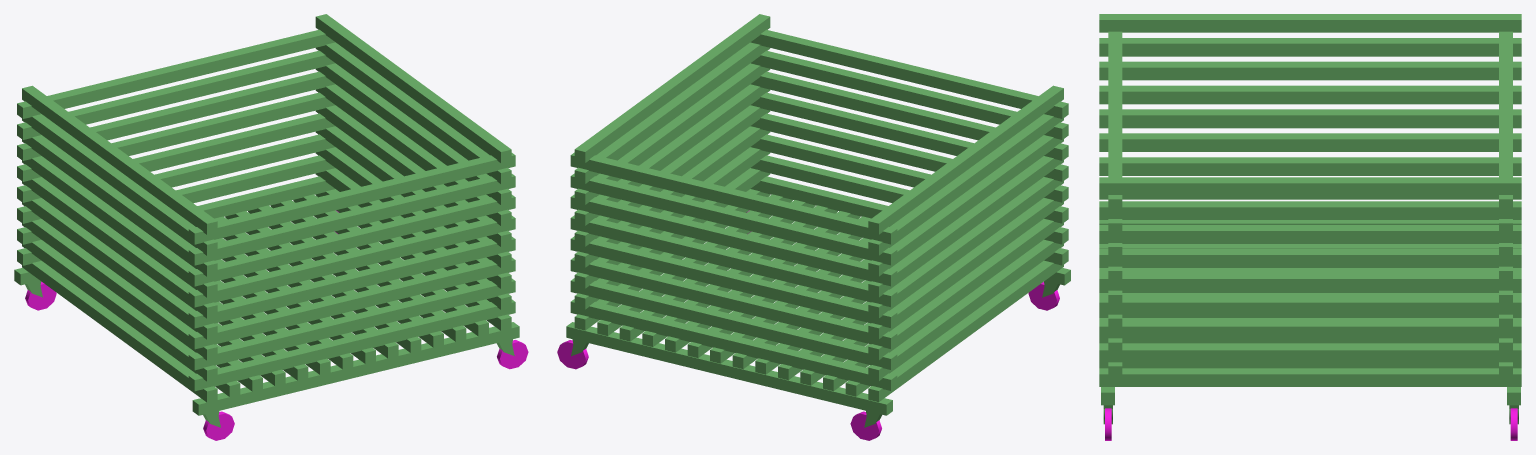
Rendered from carroPiscina.FBX.
3 renders of one model, left to right at view 1: azimuth 30°, elevation 25°; view 2: azimuth 150°, elevation 25°; view 3: azimuth 270°, elevation 25°, orthographic. The views are drawn at different scales.
Visible parts, largest first — view 1: Box034; view 2: Box034; view 3: Box034.
Boxes of the visible parts, x1=… form: Box034: x1=14, y1=14, x2=528, y2=440; Box034: x1=557, y1=14, x2=1070, y2=440; Box034: x1=1099, y1=14, x2=1521, y2=440.
Size of the model in its own units: 62.17 by 39.61 by 60.
